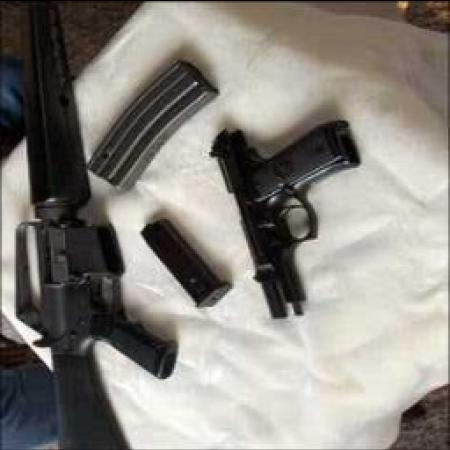2: (11, 22, 177, 436)
Pistol: (216, 104, 360, 326)
